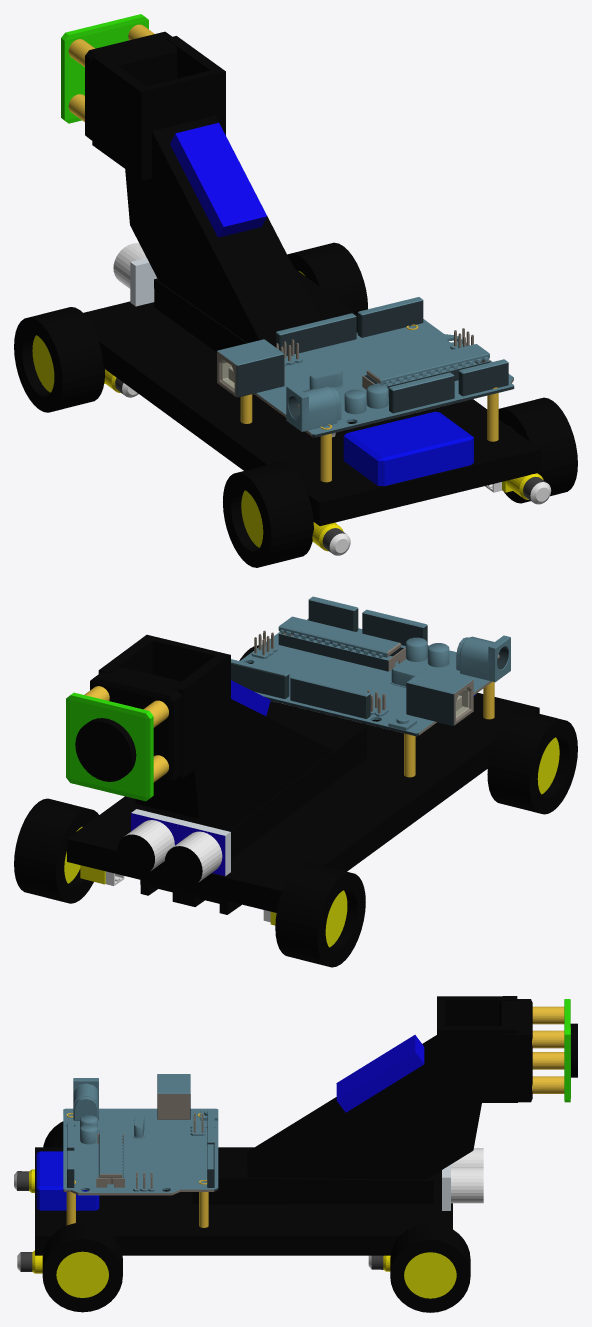
Rendered from completed_car.fbx.
3 views of the same model, one above another, from view 1: azimuth 30°, elevation 25°; view 2: azimuth 150°, elevation 25°; view 3: azimuth 270°, elevation 25° (orthographic). The views are drawn at different scales.
Parts seen in each view (by area): view 1: Cube, Cube.010, Cube.009, Arduino.006, Arduino.009, Cube.019, 圓柱體.021, 圓柱體, Cube.011, 圓柱體.022, Cube.014, Arduino.008 (+10 smaller); view 2: Cube, Cube.010, Cube.009, 圓柱體, 圓柱體.021, Arduino.009, Arduino.006, Cube.012, 圓柱體.019, Cube.013, Cube.014, Arduino.010 (+9 smaller); view 3: Cube, Cube.010, Arduino.006, Cube.009, Cube.012, 圓柱體.019, 圓柱體.022, Cube.014, Cube.011, Cube.019, 圓柱體.018, 圓柱體.023 (+12 smaller).
Part boxes in pixels (x1=…): Cube: x1=83, y1=243, x2=541, y2=525; Cube.010: x1=125, y1=115, x2=320, y2=347; Cube.009: x1=92, y1=36, x2=225, y2=180; Arduino.006: x1=253, y1=319, x2=514, y2=437; Arduino.009: x1=276, y1=297, x2=508, y2=413; Cube.019: x1=343, y1=411, x2=473, y2=486; 圓柱體.021: x1=223, y1=462, x2=313, y2=567; 圓柱體: x1=14, y1=307, x2=104, y2=412; Cube.011: x1=170, y1=122, x2=267, y2=237; 圓柱體.022: x1=498, y1=397, x2=577, y2=503; Cube.014: x1=85, y1=31, x2=177, y2=140; Arduino.008: x1=217, y1=339, x2=284, y2=397; Cube: x1=67, y1=693, x2=539, y2=912; Cube.010: x1=135, y1=699, x2=333, y2=831; Cube.009: x1=98, y1=634, x2=230, y2=778; 圓柱體: x1=275, y1=862, x2=365, y2=967; 圓柱體.021: x1=487, y1=709, x2=577, y2=814; Arduino.009: x1=231, y1=596, x2=427, y2=718; Arduino.006: x1=240, y1=618, x2=492, y2=736; Cube.012: x1=229, y1=711, x2=366, y2=858; 圓柱體.019: x1=14, y1=798, x2=98, y2=903; Cube.013: x1=66, y1=692, x2=153, y2=801; Cube.014: x1=90, y1=666, x2=181, y2=783; Arduino.010: x1=278, y1=616, x2=405, y2=671; Cube: x1=35, y1=1147, x2=483, y2=1255; Cube.010: x1=247, y1=1035, x2=481, y2=1179; Arduino.006: x1=63, y1=1108, x2=218, y2=1195; Cube.009: x1=437, y1=996, x2=517, y2=1102; Cube.012: x1=192, y1=1153, x2=433, y2=1204; 圓柱體.019: x1=390, y1=1223, x2=470, y2=1312; 圓柱體.022: x1=42, y1=1222, x2=122, y2=1312; Cube.014: x1=499, y1=999, x2=532, y2=1102; Cube.011: x1=336, y1=1035, x2=424, y2=1112; Cube.019: x1=36, y1=1151, x2=99, y2=1210; 圓柱體.018: x1=404, y1=1252, x2=456, y2=1298; 圓柱體.023: x1=56, y1=1251, x2=108, y2=1297.
Bounding box in the file's own units: 729 × 651 × 1403.
